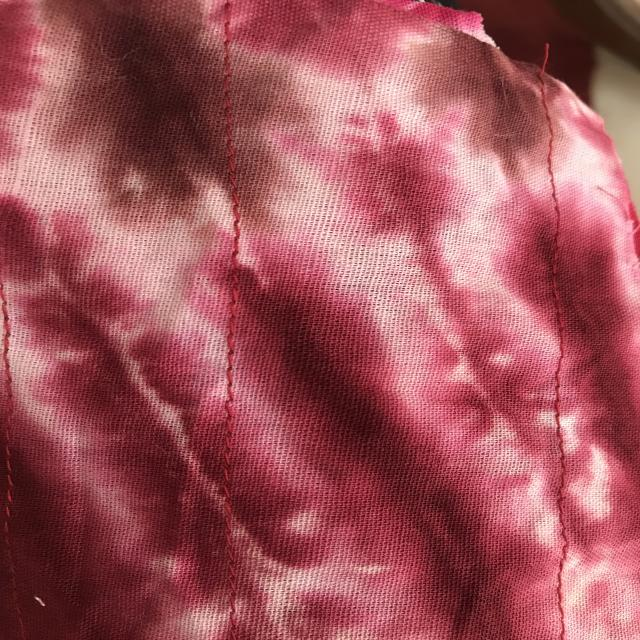good: (210, 369, 248, 457), (219, 189, 257, 275)
